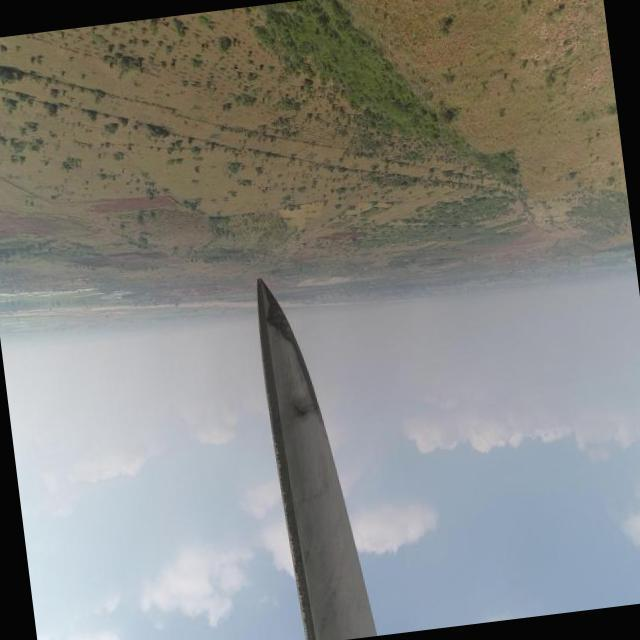Dirt: (259, 276, 376, 640)
Oil LEAKAGE: (257, 276, 323, 422)
